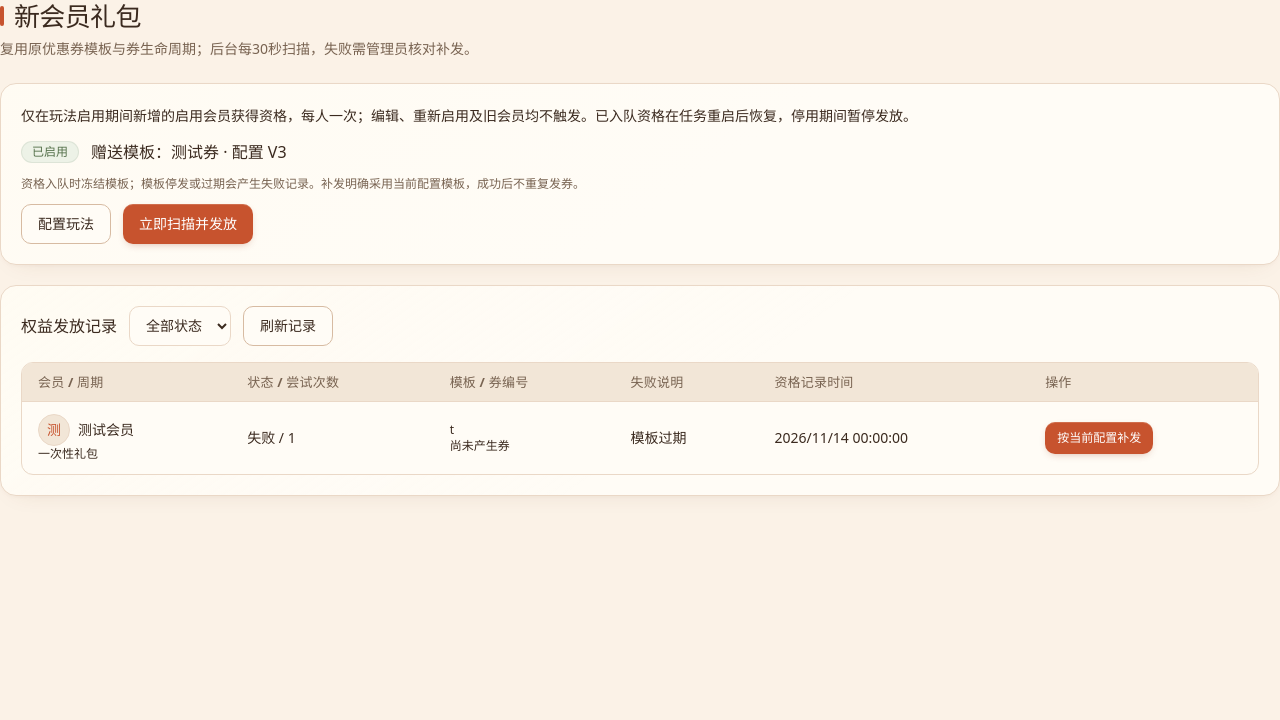
Scenario: 失败补发先确认，成功后刷新原记录
Click the button "按当前配置补发": (1099, 438) [1045,422,1153,454]
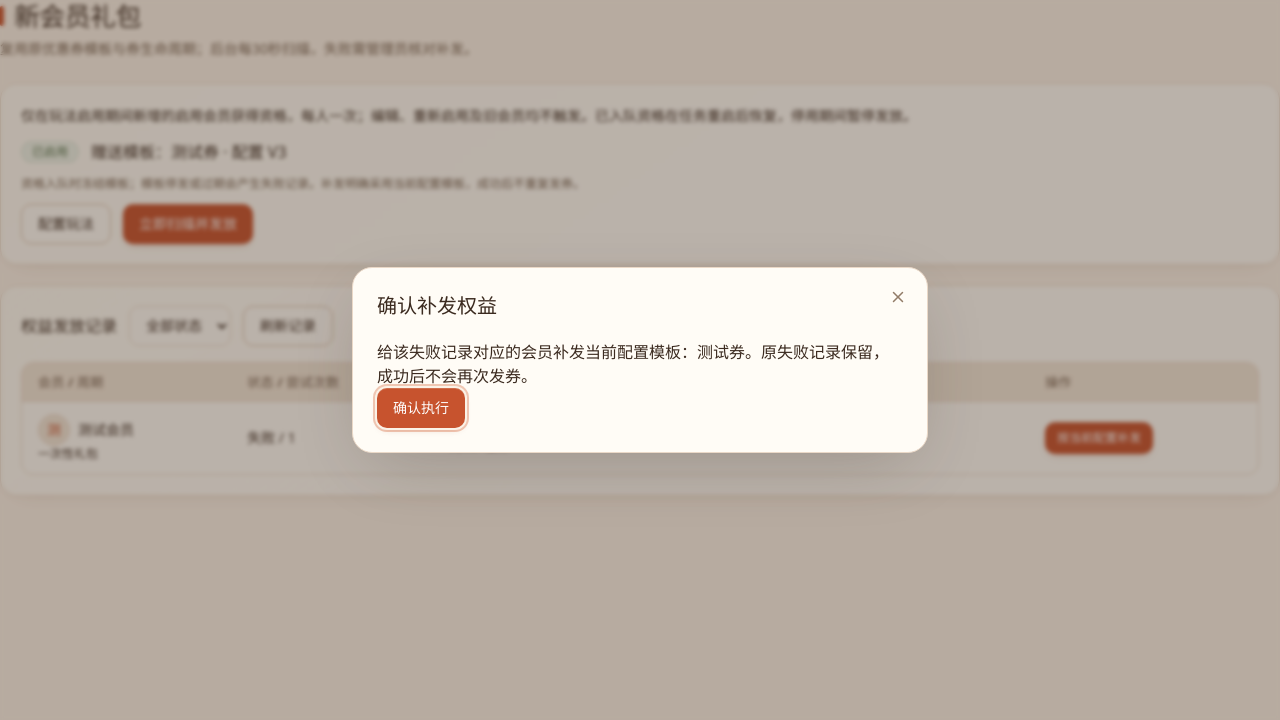
Click the button "确认执行": (421, 408) [377,388,465,428]
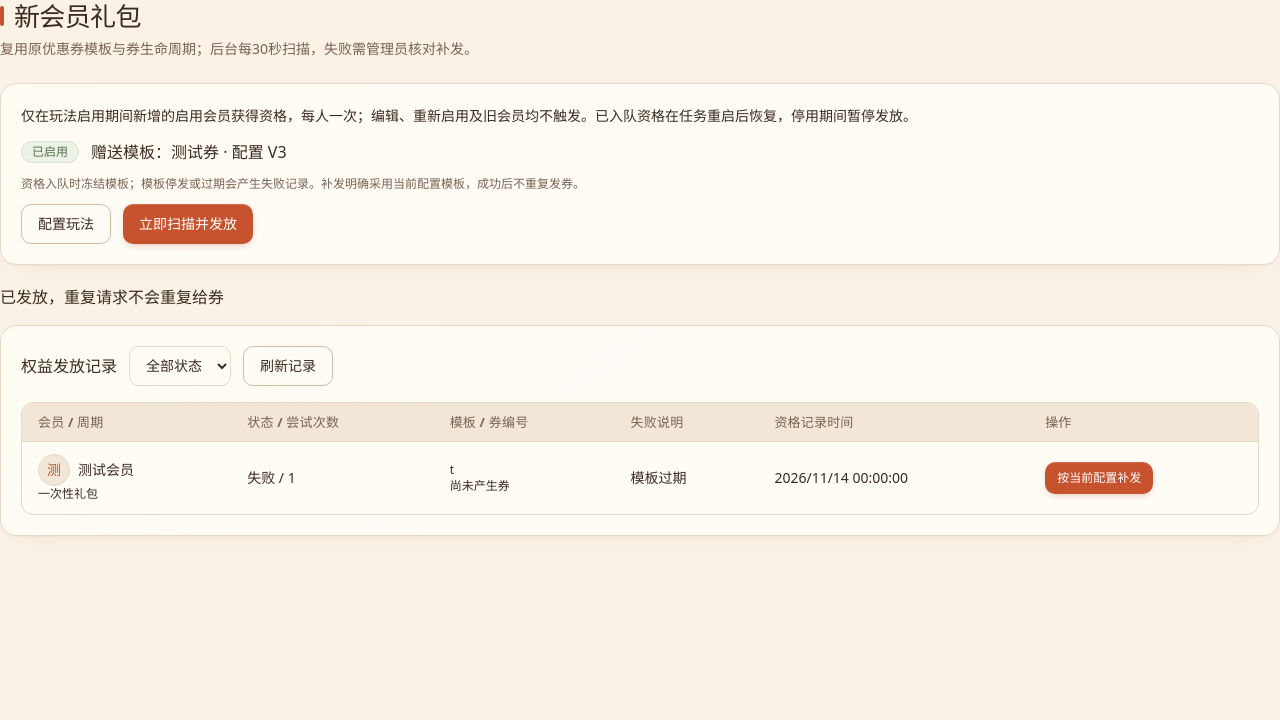
Now the message shows "已发放", box [0,286,224,308]
